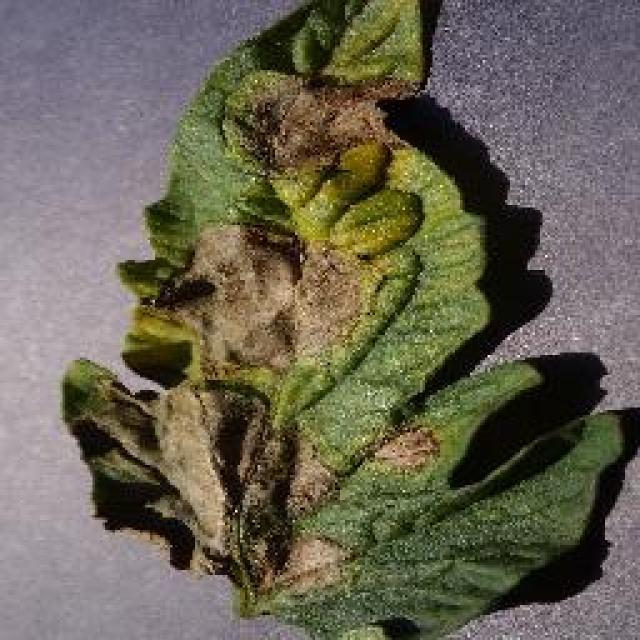Tomato late blight leaf: (60, 0, 625, 640)
